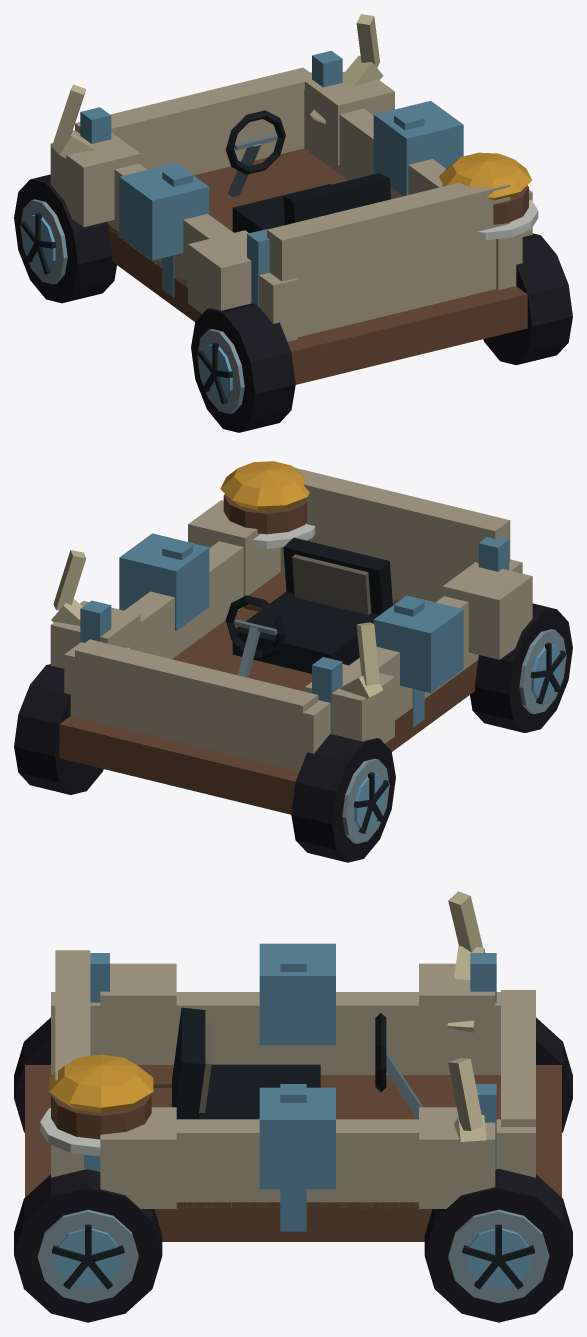
The model's file is kart.glb.
3 renders of one model, top to bottom at view 1: azimuth 30°, elevation 25°; view 2: azimuth 150°, elevation 25°; view 3: azimuth 270°, elevation 25°, orthographic. The views are drawn at different scales.
Visible parts, largest first — view 1: identity-wagon-wagon-timber-coach, identity-wagon-motif-blocks, wheel-rear-left, wheel-front-left, identity-wagon-driver-cockpit, wheel-rear-right, identity-wagon-motif-food, identity-wagon-motif-horns; view 2: identity-wagon-wagon-timber-coach, identity-wagon-motif-blocks, identity-wagon-driver-cockpit, wheel-front-left, wheel-rear-left, wheel-front-right, identity-wagon-motif-food, identity-wagon-motif-horns; view 3: identity-wagon-wagon-timber-coach, identity-wagon-motif-blocks, wheel-rear-right, wheel-front-right, identity-wagon-driver-cockpit, identity-wagon-motif-food, identity-wagon-motif-horns, wheel-front-left, wheel-rear-left.
Boxes of the visible parts, box(x1,y1,x2,y2) form: identity-wagon-wagon-timber-coach: box(72, 50, 527, 384); identity-wagon-motif-blocks: box(50, 71, 532, 313); wheel-rear-left: box(191, 303, 295, 432); wheel-front-left: box(14, 174, 116, 303); identity-wagon-driver-cockpit: box(225, 110, 390, 233); wheel-rear-right: box(483, 233, 572, 365); identity-wagon-motif-food: box(439, 152, 538, 240); identity-wagon-motif-horns: box(51, 14, 383, 158); identity-wagon-wagon-timber-coach: box(59, 468, 522, 814); identity-wagon-motif-blocks: box(50, 500, 532, 743); identity-wagon-driver-cockpit: box(225, 537, 392, 677); wheel-front-left: box(291, 734, 395, 862); wheel-rear-left: box(470, 603, 572, 732); wheel-front-right: box(14, 664, 103, 794); identity-wagon-motif-food: box(220, 461, 315, 548); identity-wagon-motif-horns: box(51, 550, 382, 698); identity-wagon-wagon-timber-coach: box(25, 950, 561, 1241); identity-wagon-motif-blocks: box(100, 943, 495, 1208); wheel-rear-right: box(14, 1169, 162, 1322); wheel-front-right: box(424, 1168, 572, 1322); identity-wagon-driver-cockpit: box(172, 1007, 422, 1119); identity-wagon-motif-food: box(40, 1054, 153, 1156); identity-wagon-motif-horns: box(447, 891, 486, 1144); wheel-front-left: box(536, 1017, 572, 1132); wheel-rear-left: box(14, 1017, 50, 1132).
Size of the model in its own units: 2.07 by 1.29 by 2.56.
